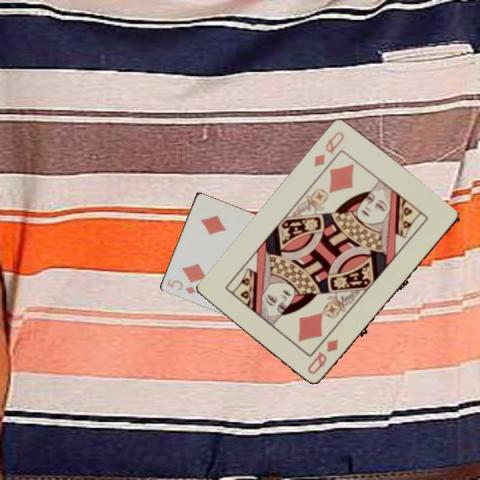5d: (164, 276, 197, 295)
Qd: (304, 336, 340, 377), (311, 128, 346, 168)
